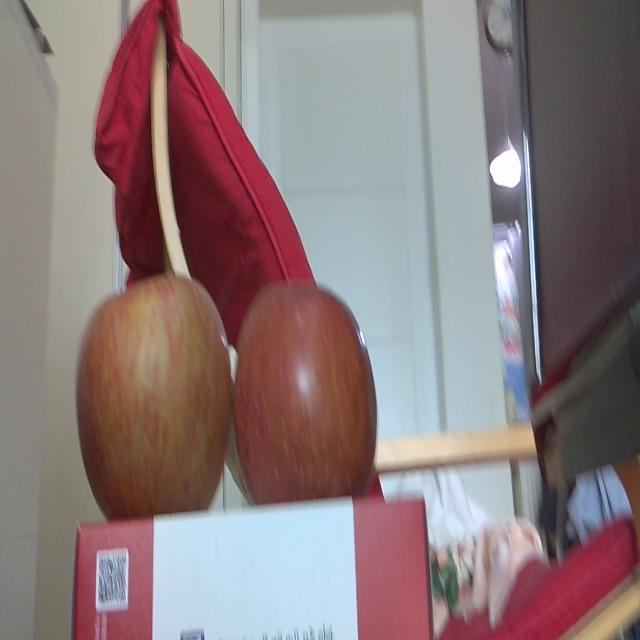apple: (79, 266, 233, 516), (236, 279, 380, 504)
